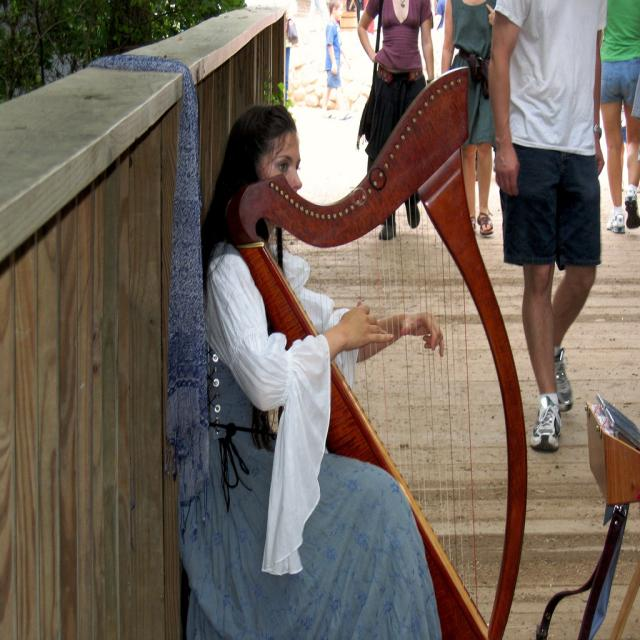harp: (224, 63, 528, 640)
